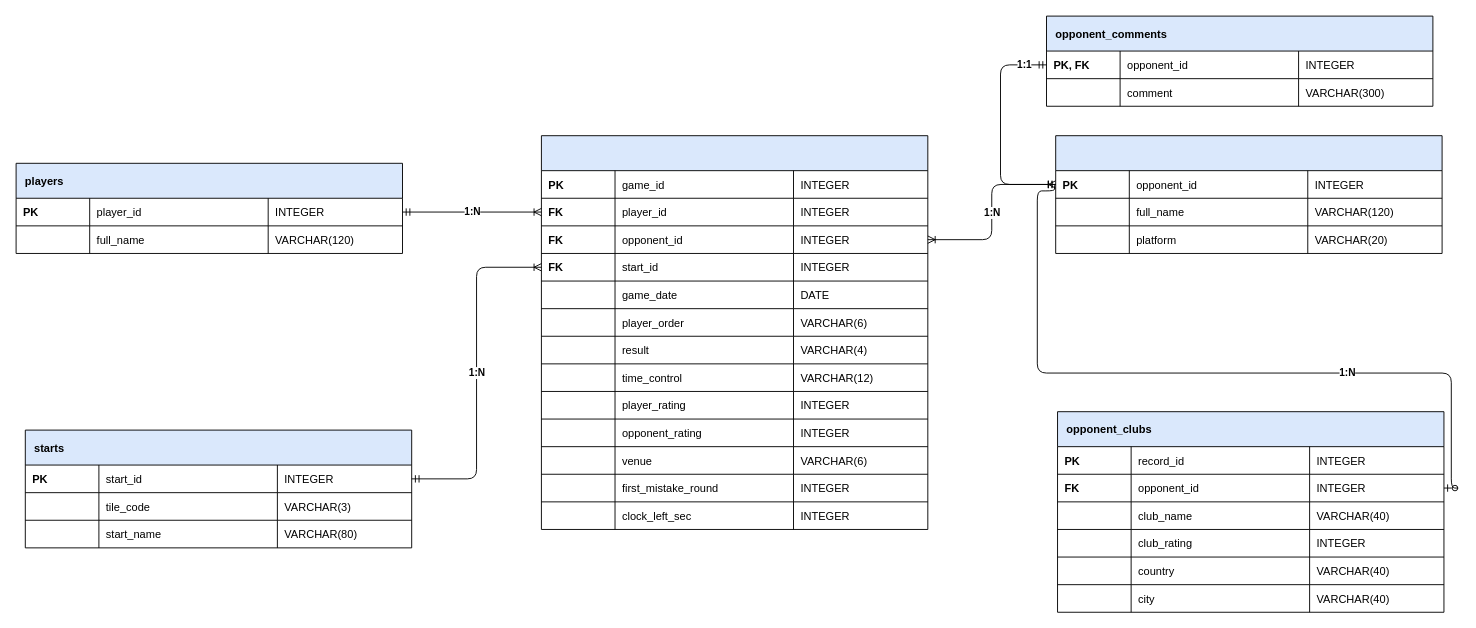
The diagram is 1476 pixels wide and 628 high, and some of its shapes have lost their labels. The shapes that lost their labels are listed below. From the top down, each one's box as (x1, y1, x2, y2) in pixels, then its label:
(1055, 135, 1442, 253): opponents
(540, 135, 928, 529): games
